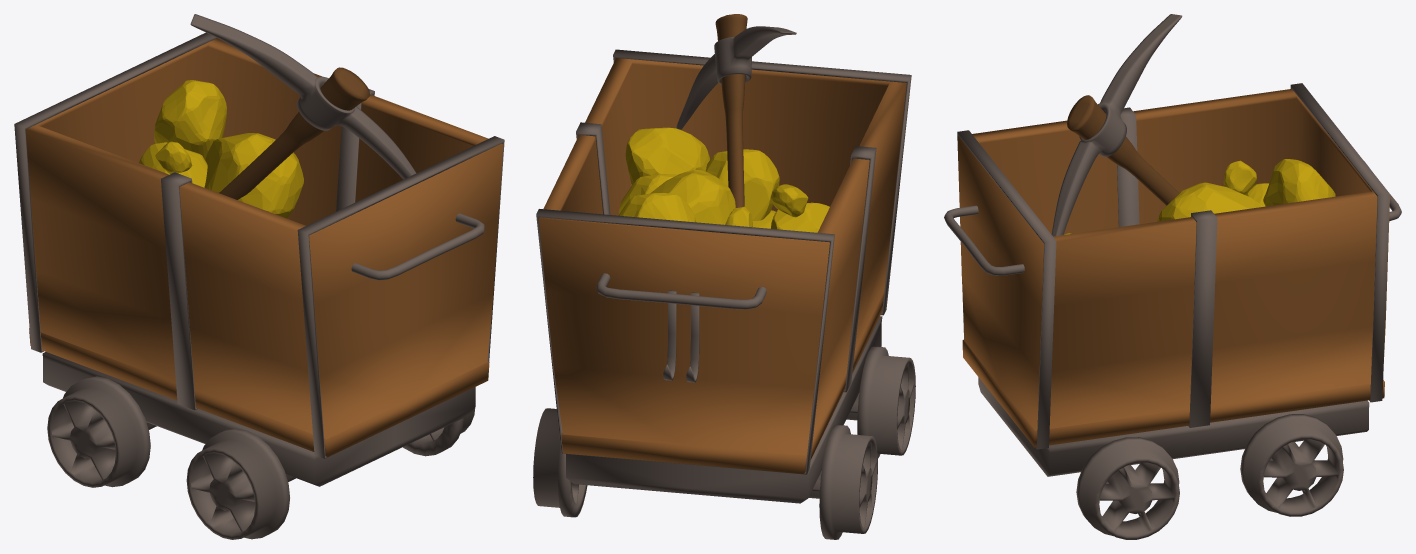
File: cart.fbx
3 views of the same model, side by side, from view 1: azimuth 30°, elevation 25°; view 2: azimuth 150°, elevation 25°; view 3: azimuth 270°, elevation 25° (orthographic). The views are drawn at different scales.
Visible parts, largest first — view 1: Cart_LP.019, Cart_LP.014, Cart_LP.020, Cart_LP.018, Cylinder003, Cart_LP.015, Cart_LP.017, Cart_LP.016, Cube.125, Cube.130, Cylinder004, Cart_LP.022 (+2 smaller); view 2: Cart_LP.019, Cart_LP.018, Cart_LP.020, Cart_LP.014, Cart_LP.016, Cube.126, Cart_LP.017, Cylinder003, Cylinder004, Cart_LP.015, Cube.125, Cube.127 (+7 smaller); view 3: Cart_LP.019, Cart_LP.018, Cart_LP.014, Cart_LP.020, Cart_LP.015, Cylinder003, Cart_LP.017, Cart_LP.016, Cylinder004, Cube.130, Cube.125, Cart_LP.022 (+1 smaller).
Boxes of the visible parts, x1,y1,x2,y2 form: Cart_LP.019: (25, 38, 503, 456); Cart_LP.014: (186, 407, 475, 539); Cart_LP.020: (42, 352, 475, 486); Cart_LP.018: (47, 376, 156, 487); Cylinder003: (190, 14, 416, 179); Cart_LP.015: (161, 89, 374, 410); Cart_LP.017: (297, 136, 504, 458); Cart_LP.016: (14, 32, 216, 352); Cube.125: (204, 133, 303, 218); Cube.130: (154, 80, 226, 159); Cylinder004: (219, 67, 369, 199); Cart_LP.022: (351, 213, 484, 280); Cart_LP.019: (538, 58, 906, 474); Cart_LP.018: (533, 408, 877, 539); Cart_LP.020: (566, 316, 882, 503); Cart_LP.014: (846, 346, 915, 458); Cart_LP.016: (536, 209, 834, 474); Cube.126: (625, 127, 709, 184); Cart_LP.017: (613, 49, 911, 315); Cylinder003: (676, 26, 796, 129); Cylinder004: (715, 14, 747, 207); Cart_LP.015: (576, 122, 876, 392); Cube.125: (650, 169, 735, 224); Cube.127: (705, 149, 779, 220); Cart_LP.019: (957, 89, 1389, 447); Cart_LP.018: (1240, 414, 1343, 516); Cart_LP.014: (1076, 437, 1179, 539); Cart_LP.020: (978, 377, 1369, 476); Cart_LP.015: (1117, 107, 1217, 427); Cylinder003: (1051, 14, 1182, 236); Cart_LP.017: (957, 130, 1056, 449); Cart_LP.016: (1290, 83, 1389, 402); Cylinder004: (1067, 95, 1179, 205); Cube.130: (1263, 159, 1335, 206); Cube.125: (1157, 182, 1263, 221); Cart_LP.022: (944, 205, 1024, 275).
Size of the model in its own units: 7.99 by 10.07 by 9.7.
